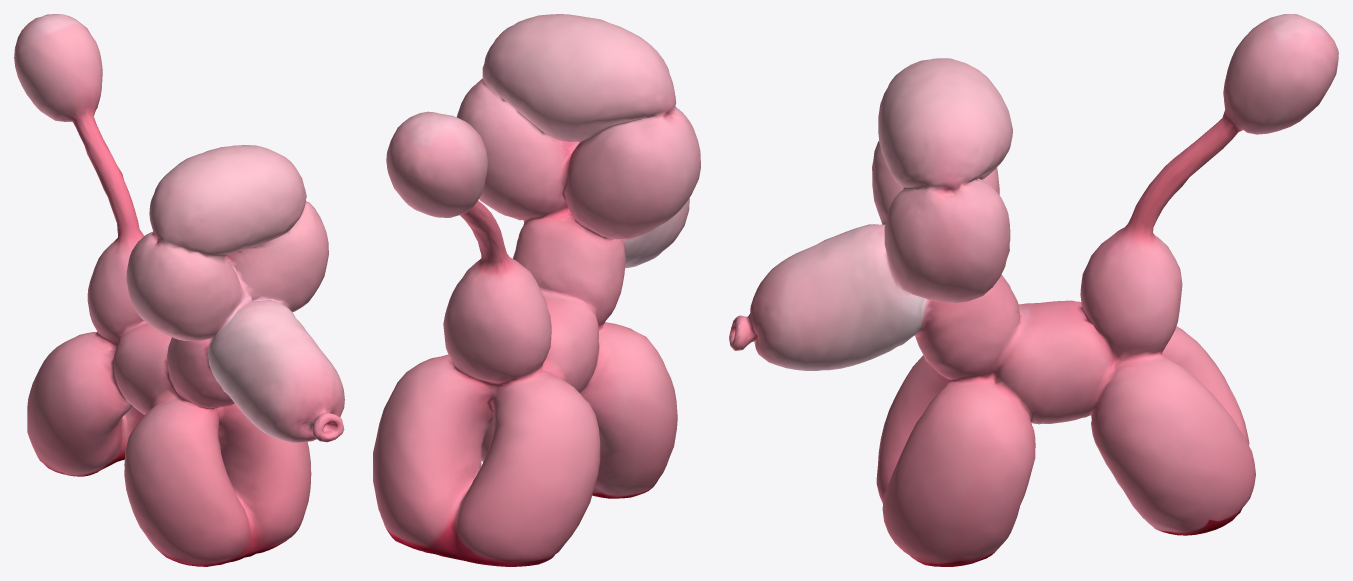
Rendered from pink-dog-balloon-ani.glb.
3 renders of one model, left to right at view 1: azimuth 30°, elevation 25°; view 2: azimuth 150°, elevation 25°; view 3: azimuth 270°, elevation 25°, orthographic. The views are drawn at different scales.
Parts seen in each view (by area): view 1: Mesh_0; view 2: Mesh_0; view 3: Mesh_0.
Part boxes in pixels (left/top/right/bottom): Mesh_0: left=14, top=14, right=344, bottom=566; Mesh_0: left=373, top=14, right=700, bottom=566; Mesh_0: left=729, top=14, right=1338, bottom=566.
Bounding box in the file's own units: 0.7811 × 1.63 × 1.8.
1 material, 1 textured.
